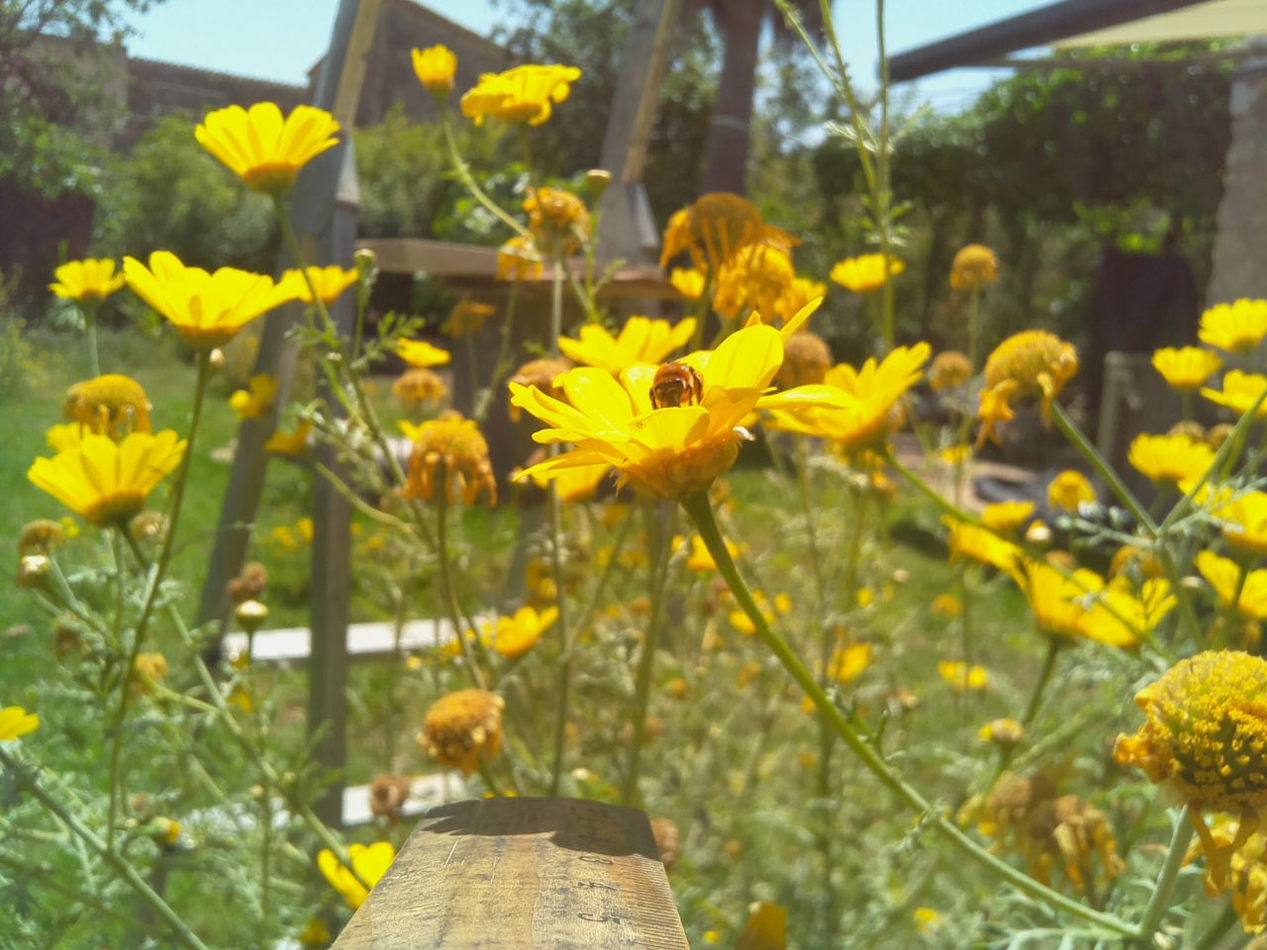Eucera: (637, 358, 717, 416)
